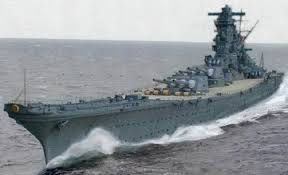tau_muctieu: (9, 20, 286, 157)
